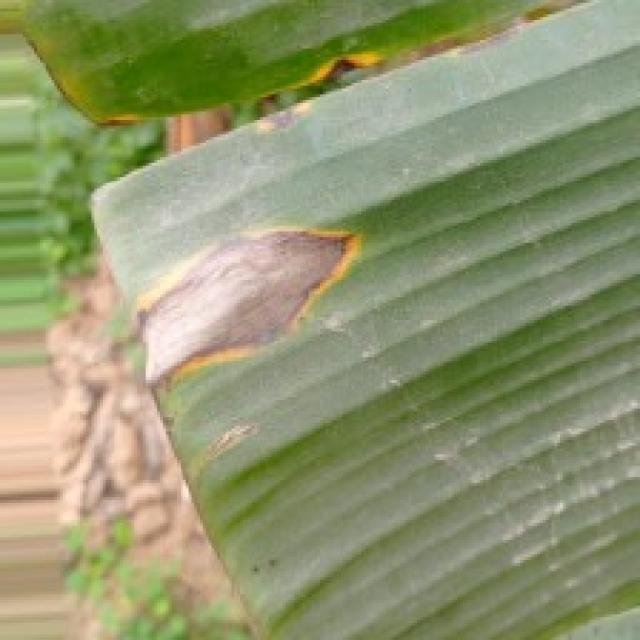Bacterial_spot: (131, 206, 376, 411), (159, 417, 294, 472), (65, 90, 168, 140), (291, 50, 388, 90)
